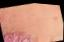plaque psoriasis: (0, 10, 36, 42), (57, 31, 64, 40)
